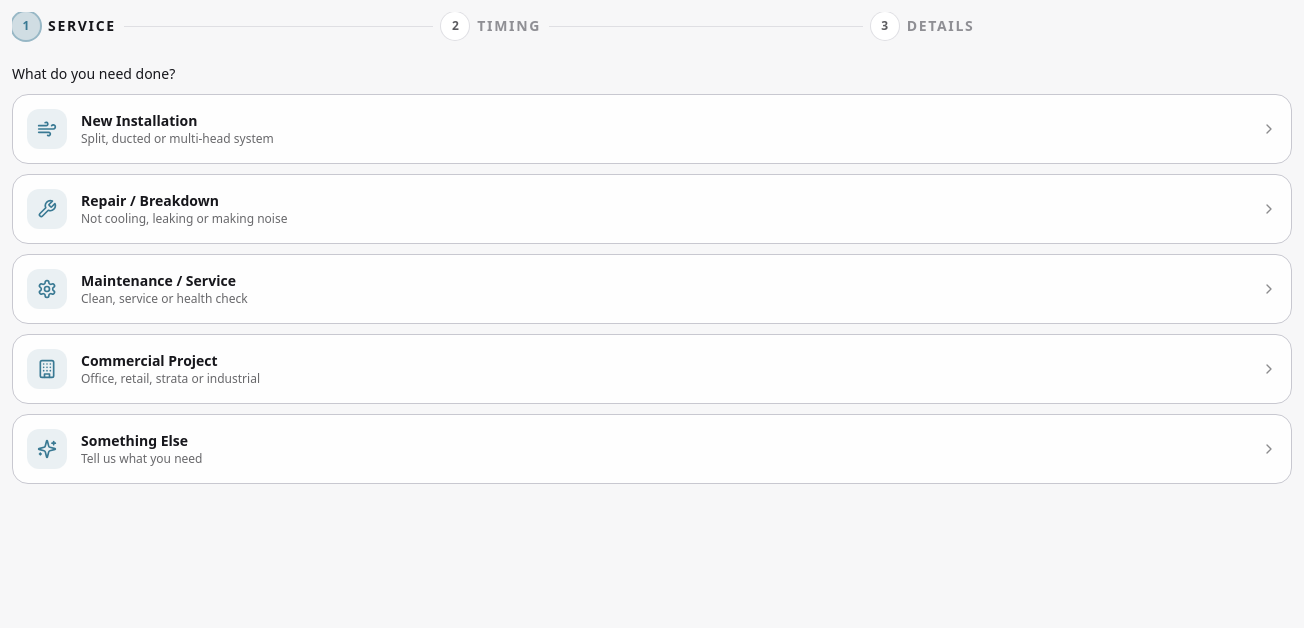
Scenario: QuoteWizard › goes back to the previous step without losing the answer
Click the text "New Installation".
click(139, 120)  # box [81,111,197,130]
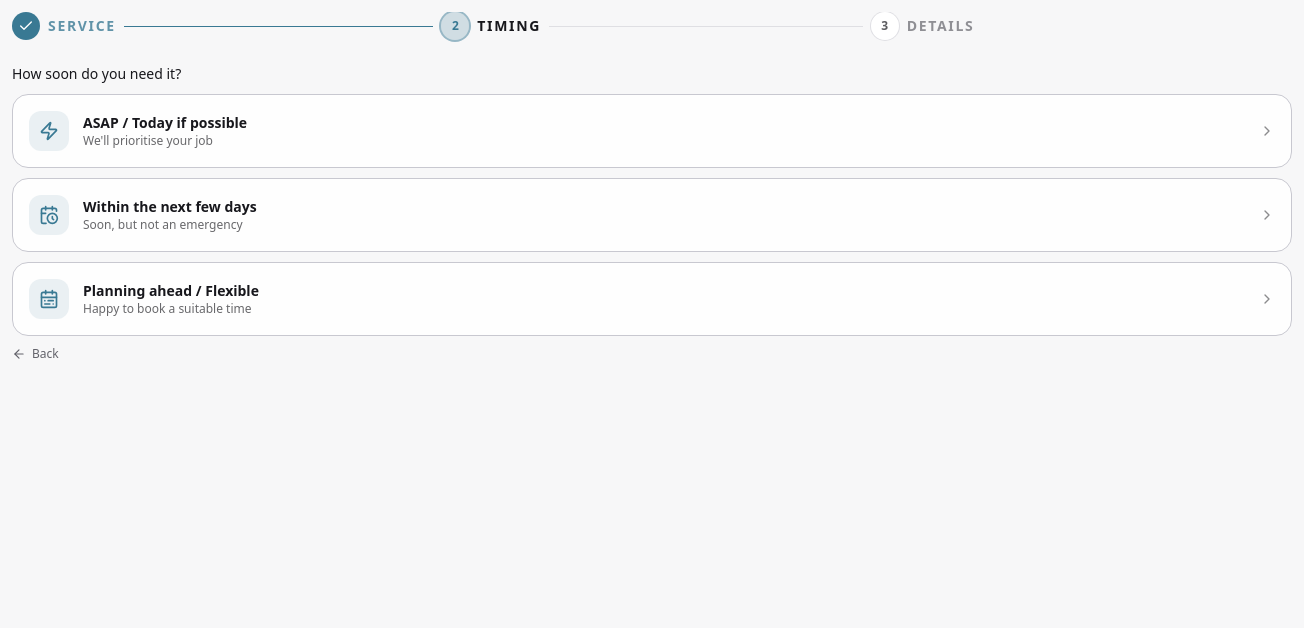
Check: the text "How soon do you need it?" is shown, box [12,64,181,83]
Click the button "Back".
click(35, 354)  # box [12,346,59,362]
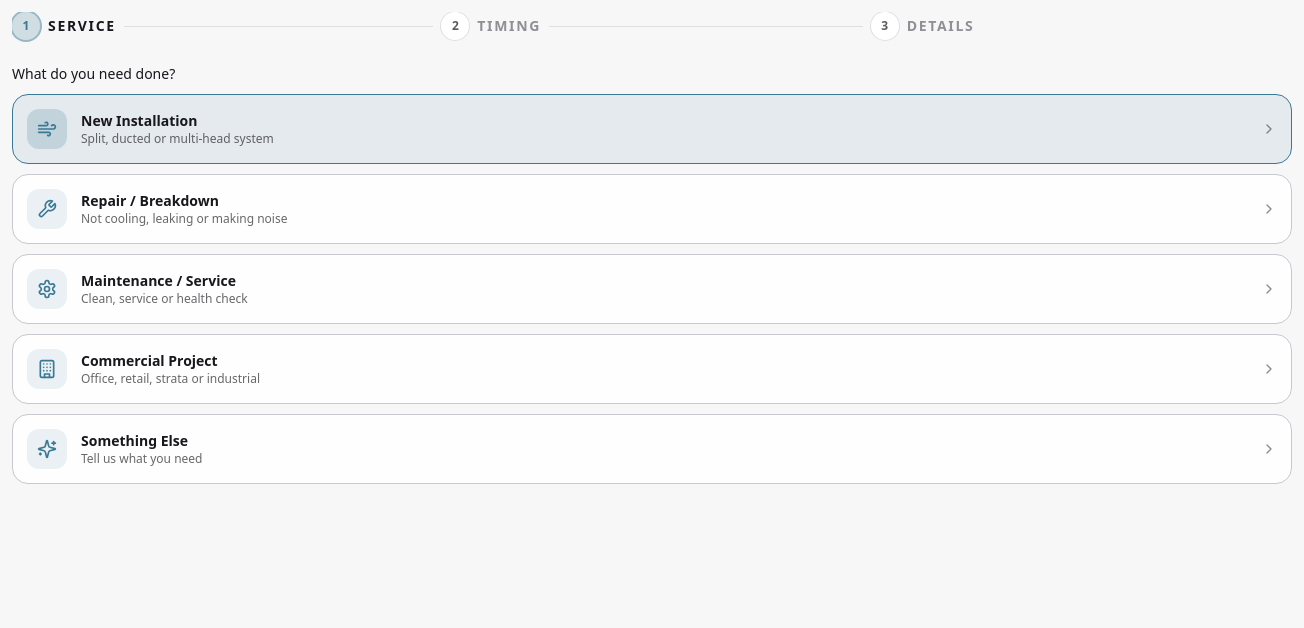
Check: the text "What do you need done?" is shown, box [12,64,175,83]
Note: Returning forward should still remember the service choice.
Click the text "New Installation".
click(139, 120)  # box [81,111,197,130]
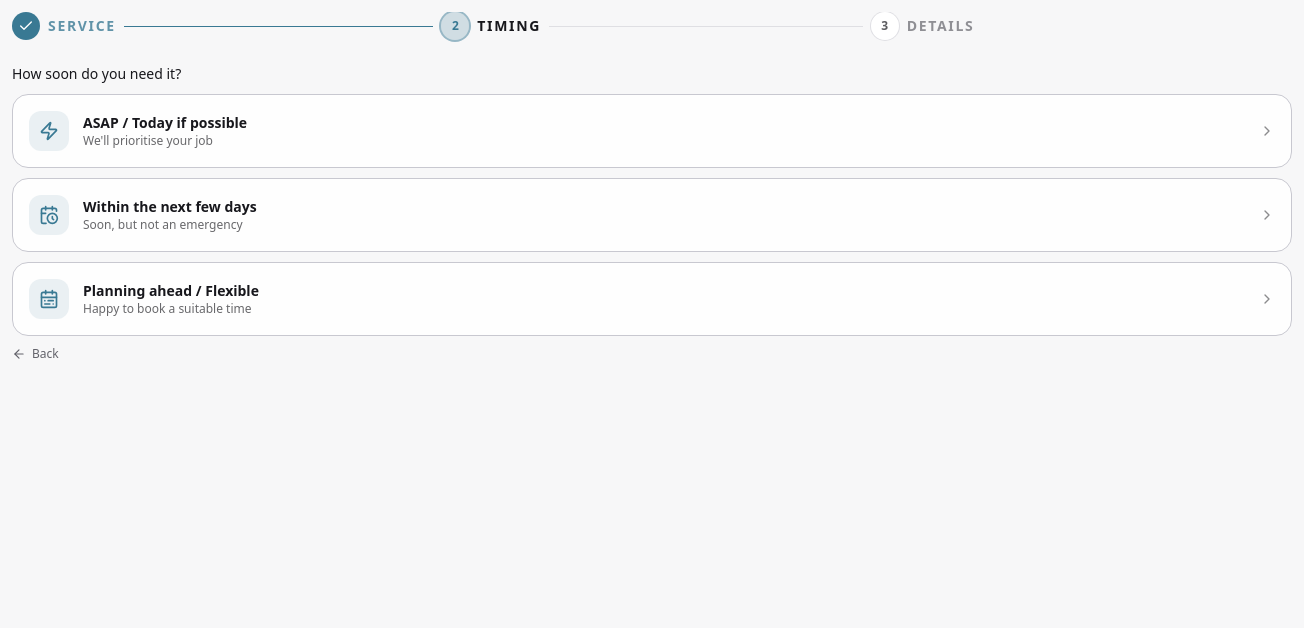
Click the text "ASAP / Today if possible".
click(165, 122)  # box [83,113,247,132]
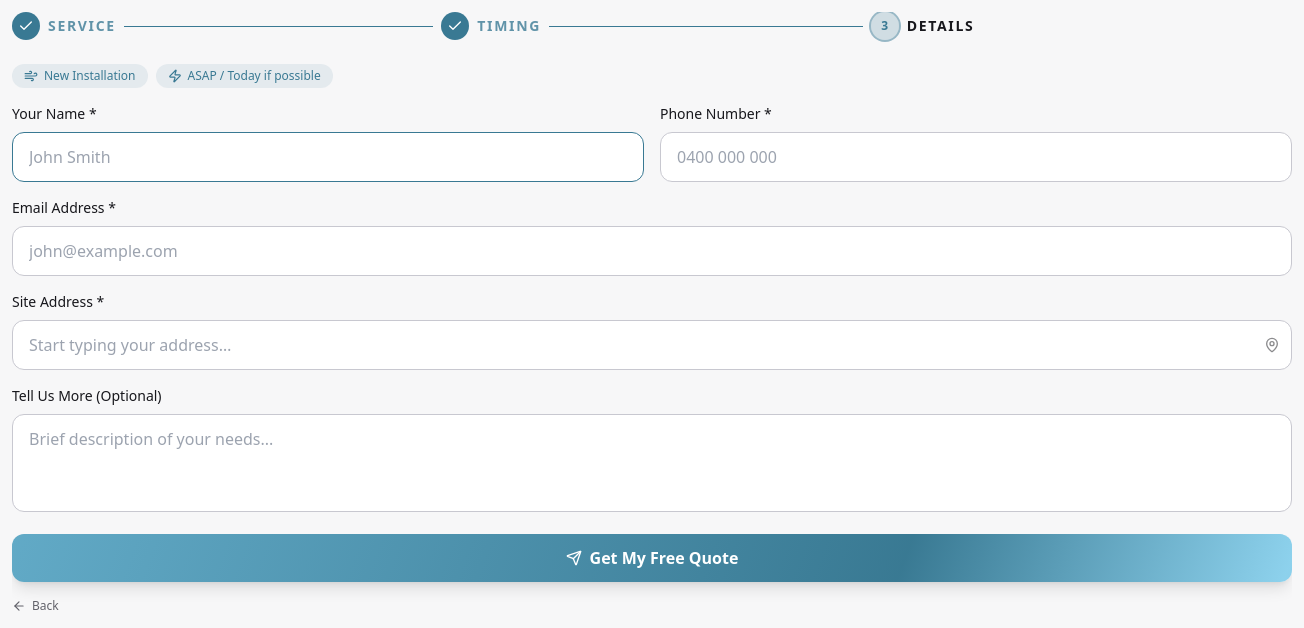
Check: the field labelled "Your Name *" is shown, box [12,132,644,182]
Check: the text "New Installation" is shown, box [12,64,148,88]
